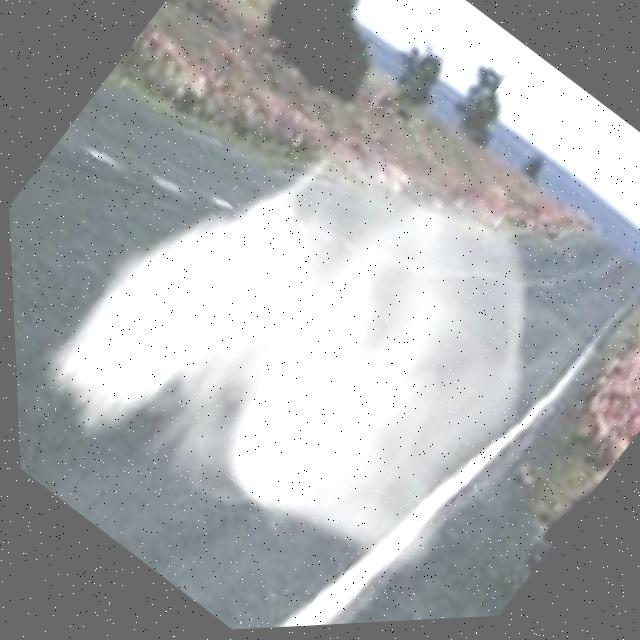Smoke: (2, 25, 633, 640)
